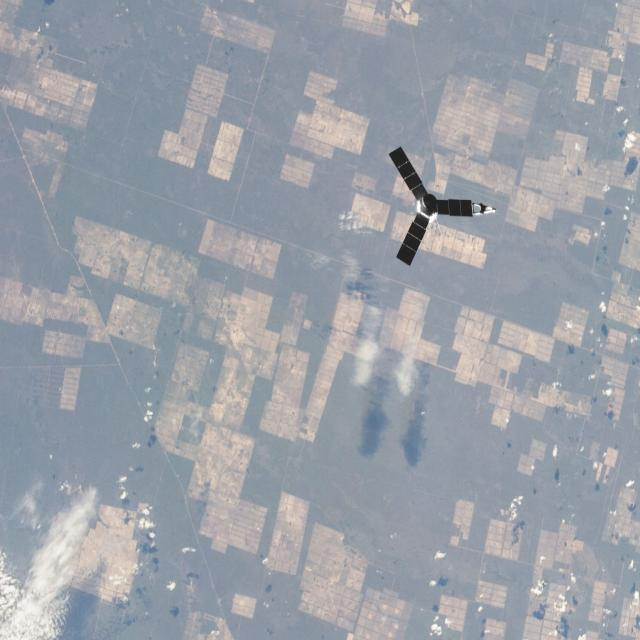satellite: (365, 140, 505, 251)
